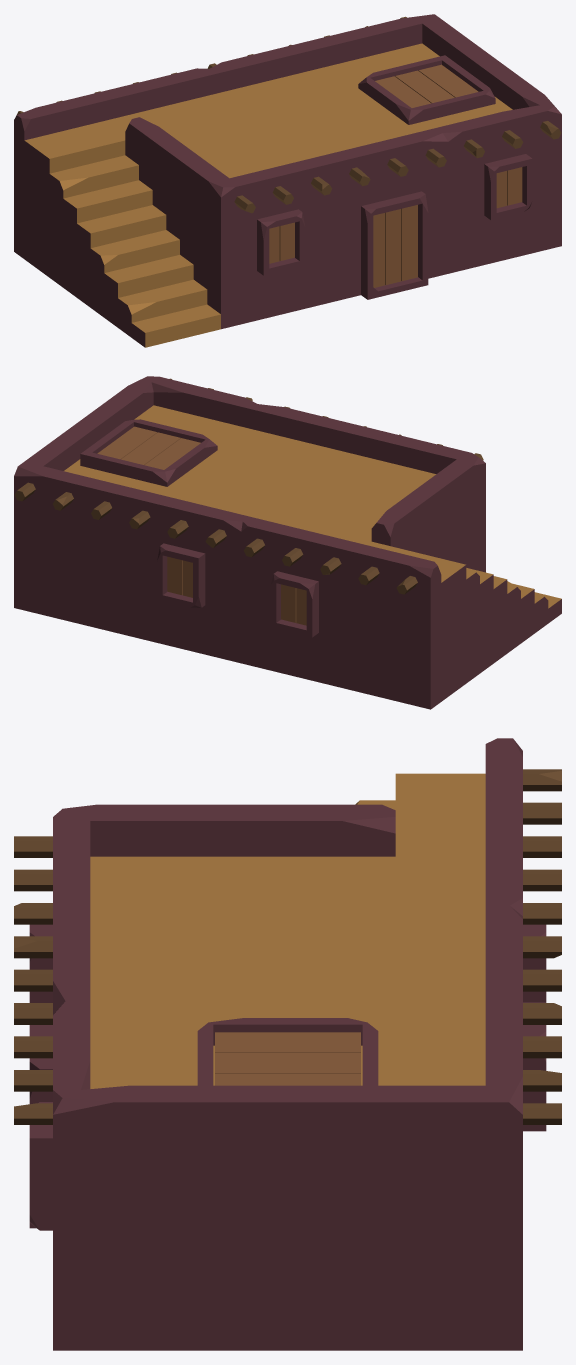
Rendered from house-egypt-medium.fbx.
The picture shows the model from 3 angles, top to bottom: view 1: azimuth 30°, elevation 25°; view 2: azimuth 150°, elevation 25°; view 3: azimuth 270°, elevation 25°; orthographic projection. The views are drawn at different scales.
Parts seen in each view (by area): view 1: house-egypt-medium; view 2: house-egypt-medium; view 3: house-egypt-medium.
Boxes of the visible parts, x1,y1,x2,y2 form: house-egypt-medium: [14, 14, 561, 347]; house-egypt-medium: [14, 376, 561, 709]; house-egypt-medium: [14, 738, 561, 1350].
Size of the model in its own units: 11 by 3.5 by 7.
